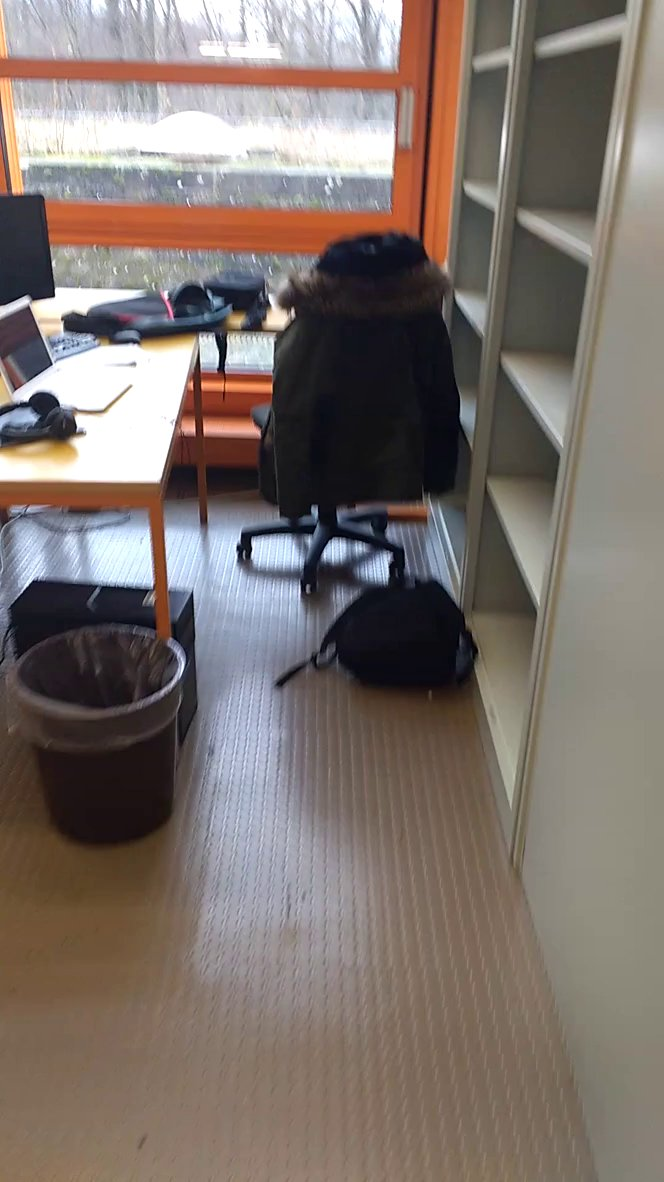bag: (264, 552, 490, 711)
bin: (1, 612, 193, 861)
laptop: (1, 290, 140, 416)
